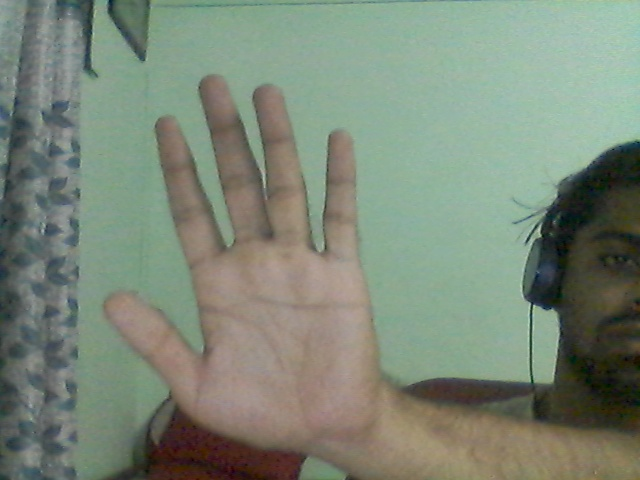Hello: (89, 38, 445, 458)
